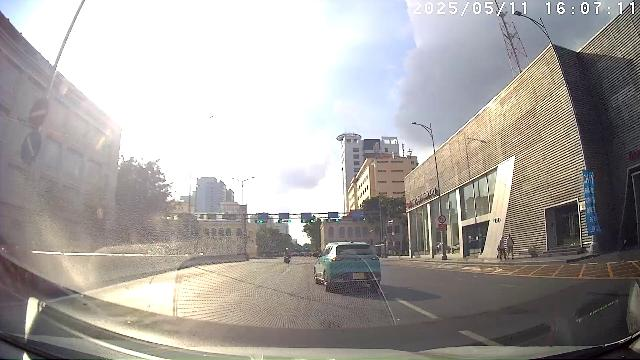124b-cam-oto-quay-dau-xe: (438, 215, 446, 223)
